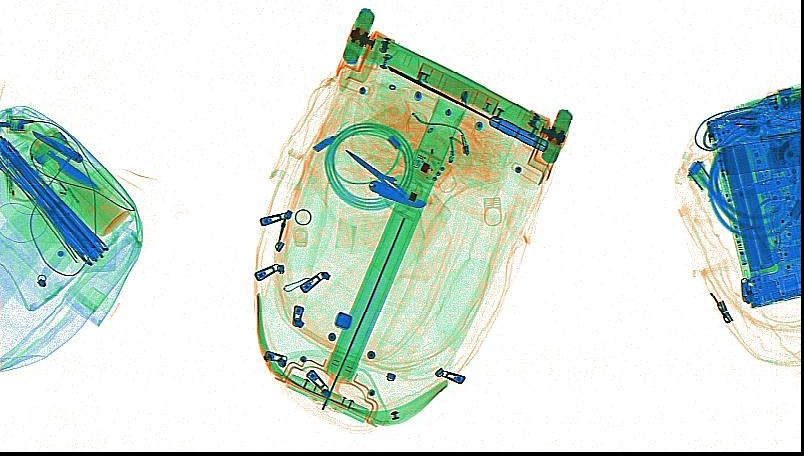knife: (386, 64, 547, 152), (16, 123, 100, 191), (29, 129, 83, 163), (368, 179, 428, 207)
pressure: (716, 135, 799, 175)
scissors: (344, 148, 420, 212)
